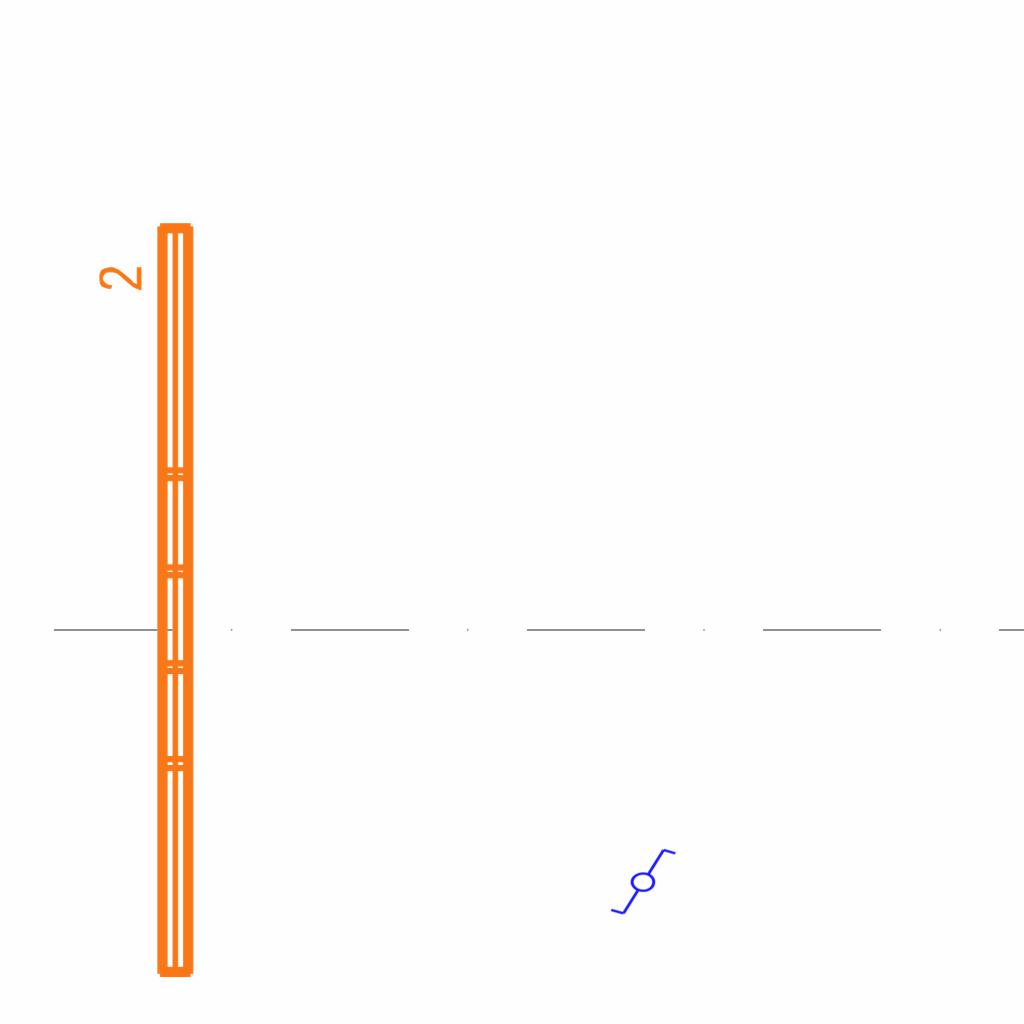Ambulanz_Pendelleuchte_LED: (94, 214, 206, 988)
Wechselschalter: (600, 845, 678, 917)
